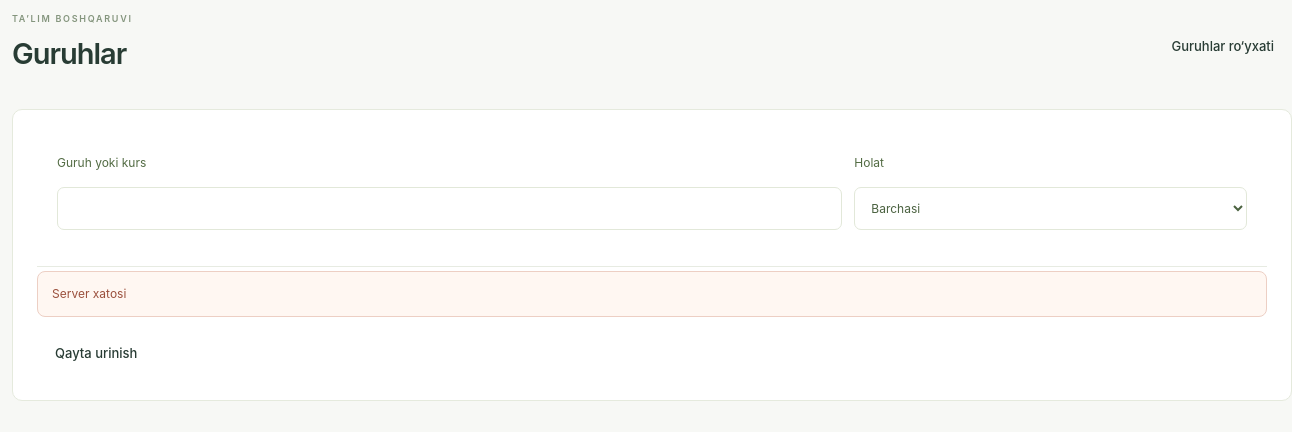
supports loading, empty and retry after errors
expect the message reads "Server xatosi": met, box x1=52 y1=286 x2=126 y2=301
Click the button "Qayta urinish": click(96, 354) x1=37 y1=332 x2=155 y2=376
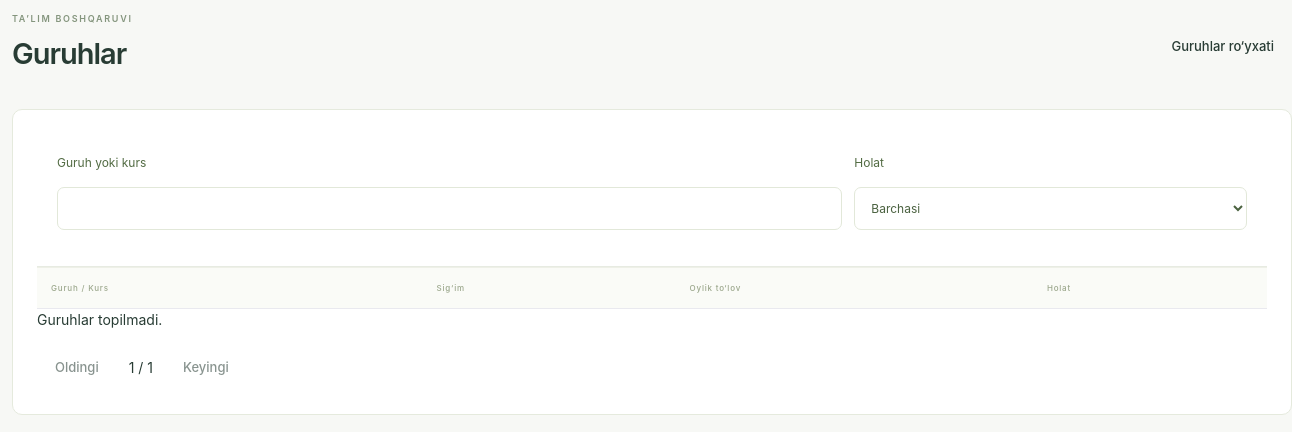
expect the text "Guruhlar topilmadi." is shown: met, box x1=37 y1=311 x2=162 y2=328
